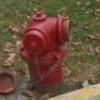Hydrant: (13, 8, 79, 92)
